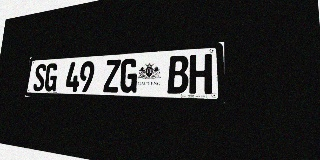4: (65, 62, 81, 92)
9: (79, 61, 95, 92)
B: (167, 55, 189, 94)
G: (119, 58, 138, 93), (44, 63, 58, 91)
H: (189, 54, 212, 94)
S: (33, 64, 47, 91)
Z: (103, 59, 121, 93)
